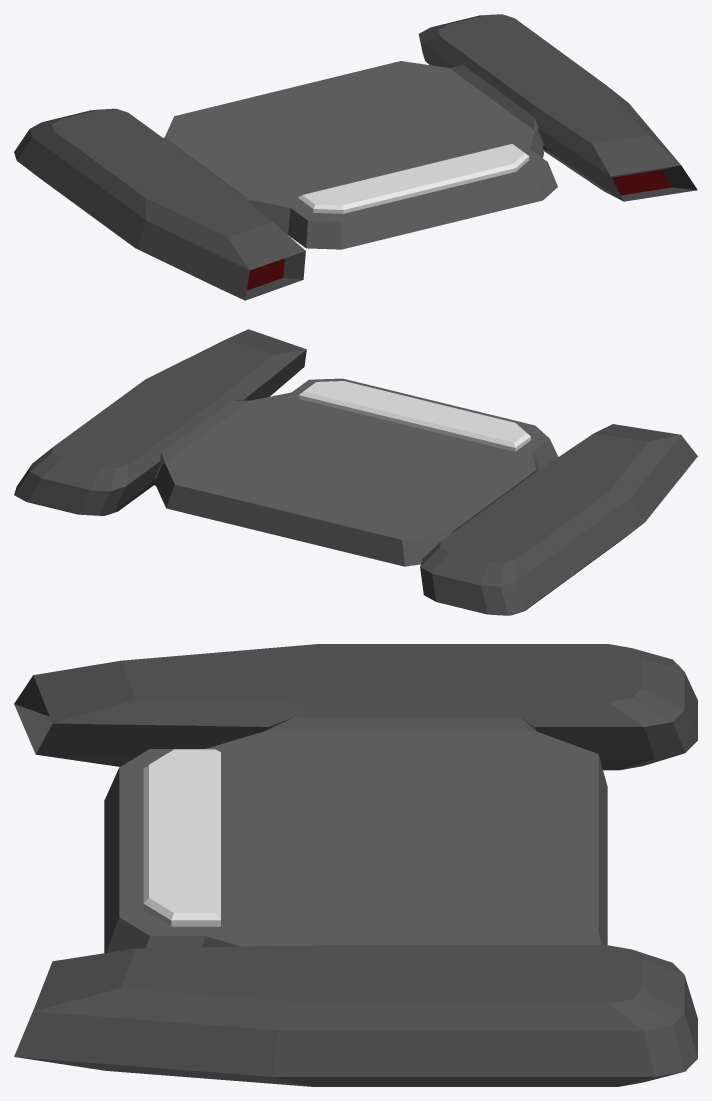
Rendered from boss1.glb.
3 renders of one model, top to bottom at view 1: azimuth 30°, elevation 25°; view 2: azimuth 150°, elevation 25°; view 3: azimuth 270°, elevation 25°, orthographic. The views are drawn at different scales.
Visible parts, largest first — view 1: Ship, Glass; view 2: Ship, Glass; view 3: Ship, Glass.
Part boxes in pixels (left/top/right/bottom): Ship: left=14, top=14, right=697, bottom=300; Glass: left=297, top=144, right=529, bottom=213; Ship: left=14, top=329, right=697, bottom=615; Glass: left=298, top=381, right=530, bottom=451; Ship: left=14, top=644, right=697, bottom=1086; Glass: left=143, top=749, right=220, bottom=926.
Bounding box in the file's own units: 4.56 × 0.4 × 3.34.
